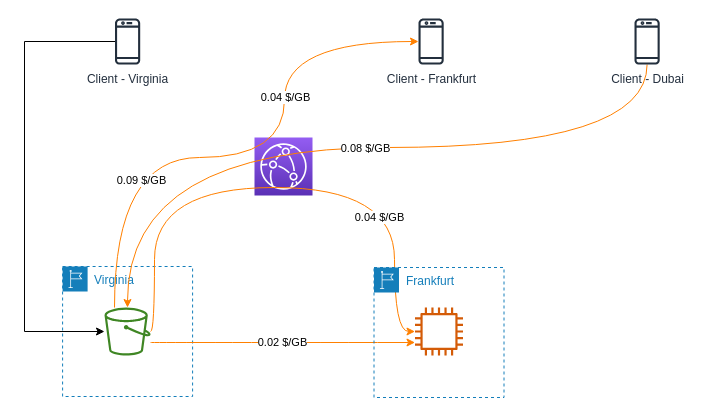
Some shapes in this 701 by 415 pixel diagram are drawn without their labels. Each missing label, with the box of its shape:
Bucket - Virginia: (104, 307, 150, 355)
Instance - Frankfurt: (414, 307, 462, 355)
S3 Transfer Acceleration: (254, 136, 312, 196)
